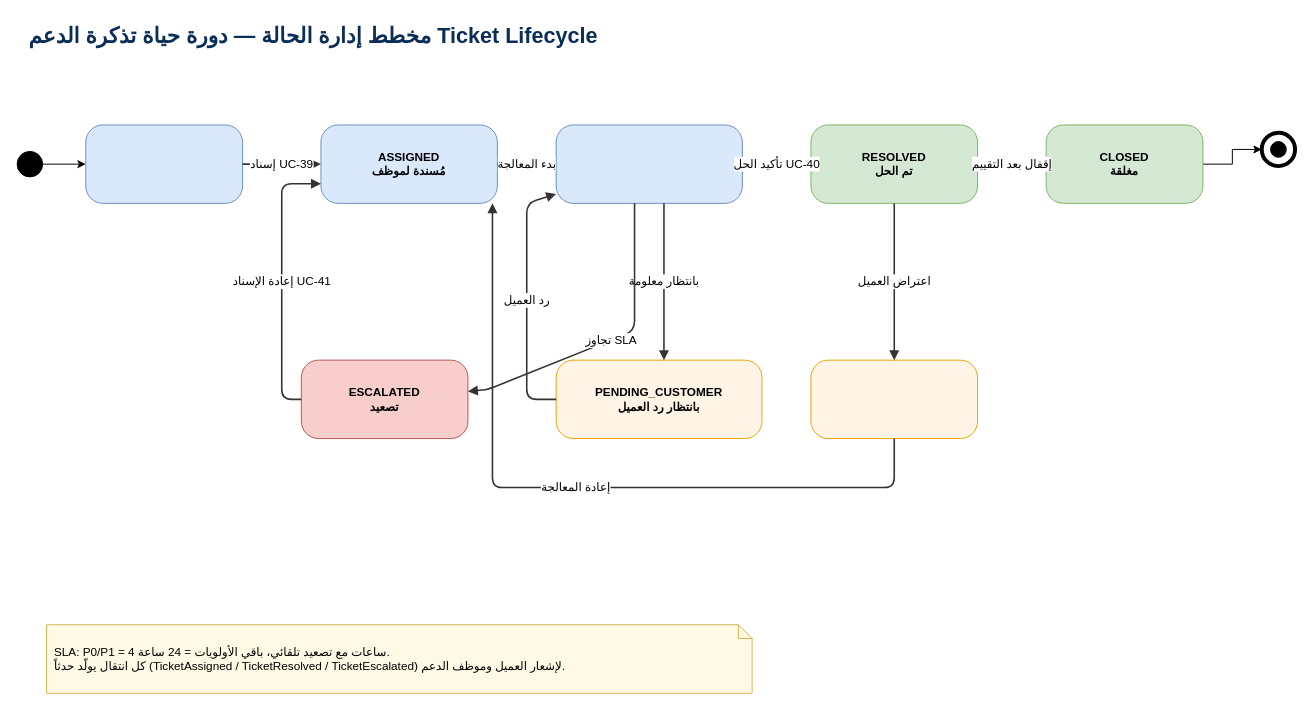
Some shapes in this 1314 by 711 pixel diagram are drawn without their labels. The shapes that lost their labels are listed below. From the top down, each one's box as (x1, y1, x2, y2) in pixels, then its label:
(85, 124, 243, 203): OPEN مُنشأة
(555, 124, 742, 203): IN_PROGRESS قيد المعالجة
(810, 359, 978, 439): REOPENED إعادة فتح
